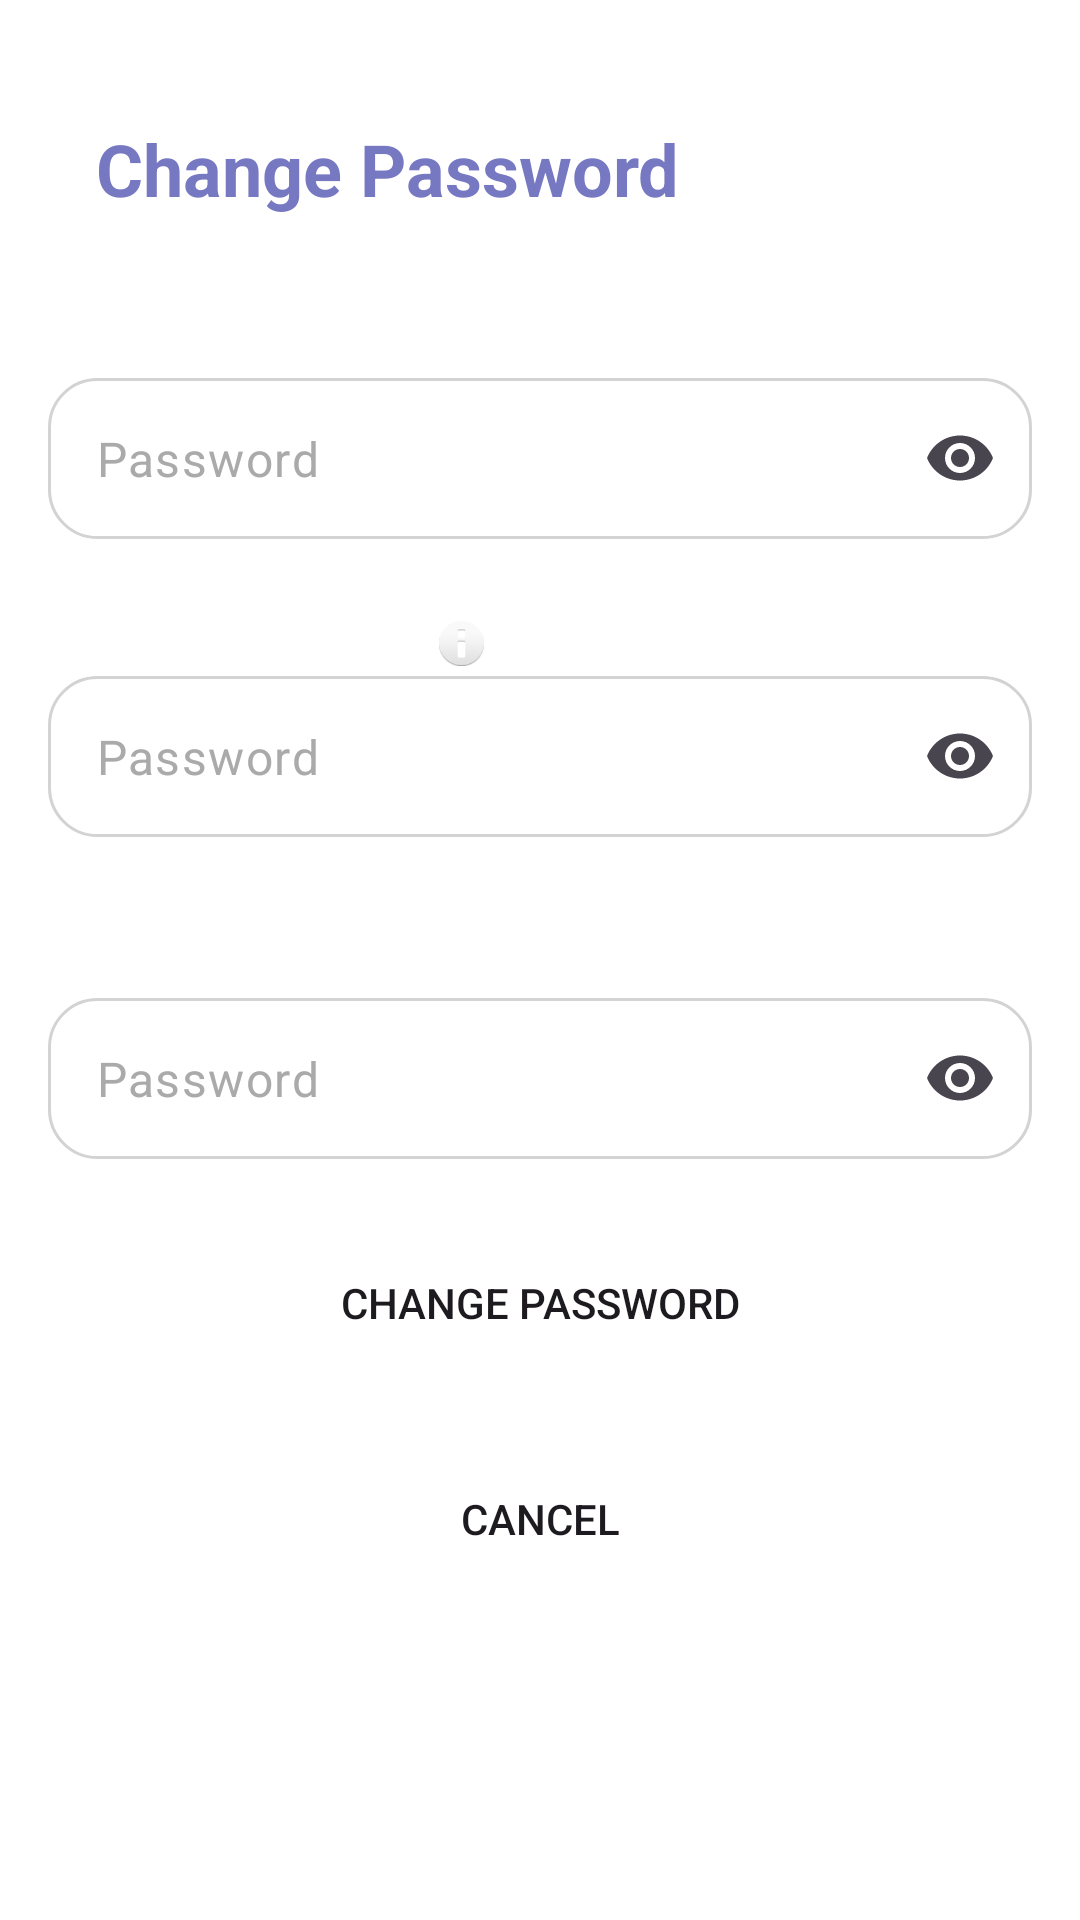

Named icons in this screenshot (1080px x 1920px) and their bounding boxes, Rect(x1, y1, x2, y2):
info: Rect(439, 629, 484, 666)
